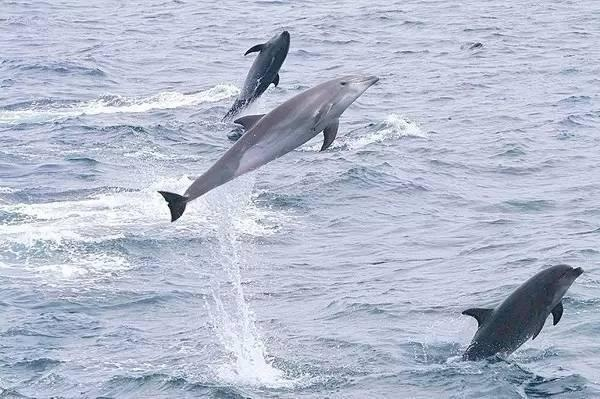fish: (147, 74, 387, 228), (449, 263, 584, 373), (217, 27, 295, 125)
